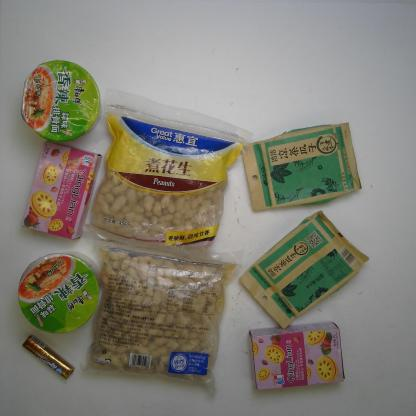Candy: (22, 334, 74, 379)
Dessert: (20, 138, 102, 241), (249, 322, 346, 391)
Dried Food: (80, 85, 254, 264), (78, 235, 247, 399), (238, 209, 369, 330), (241, 122, 361, 212)
Instant Noodles: (20, 58, 103, 144), (17, 251, 100, 336)
